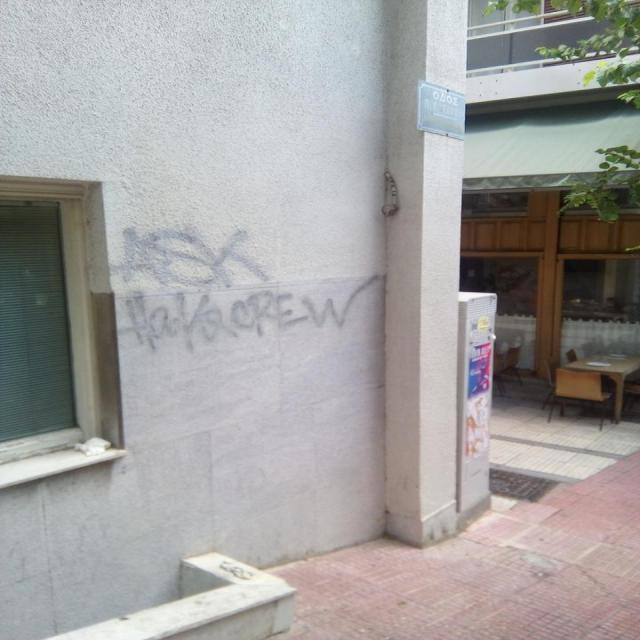nonspitting: (117, 222, 383, 352)
